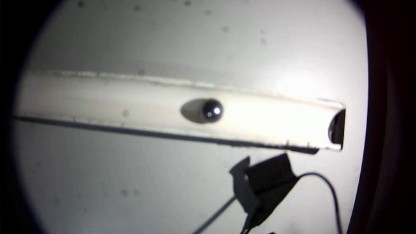gangzhu: (198, 96, 222, 121)
